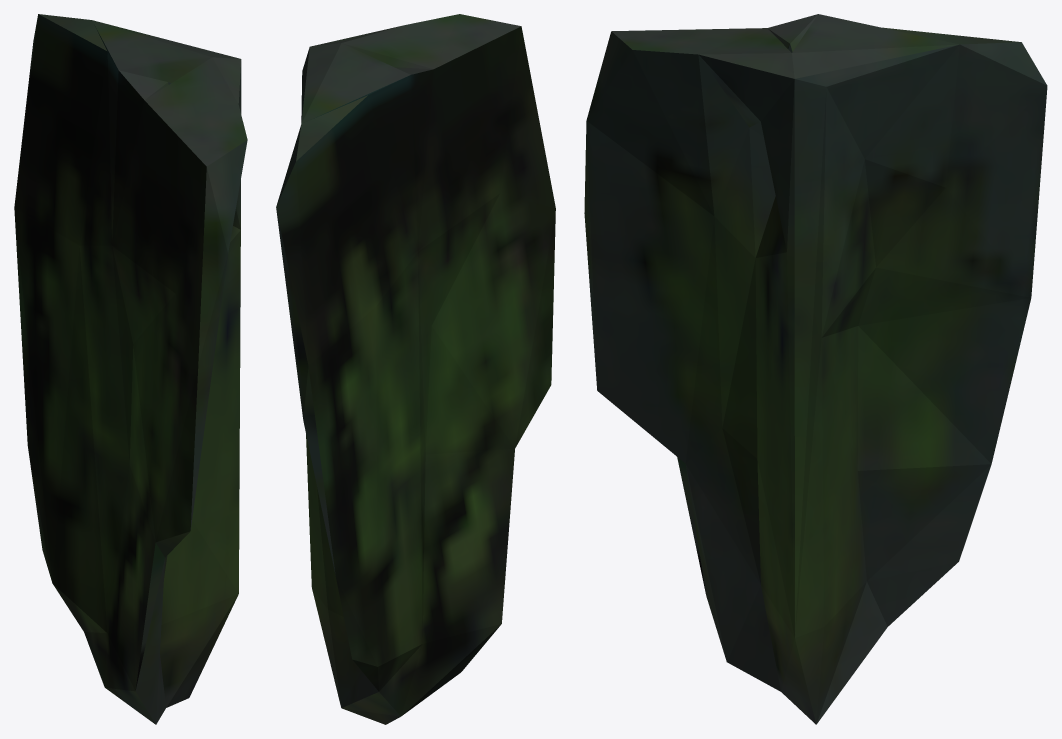
3 views of the same model, side by side, from view 1: azimuth 30°, elevation 25°; view 2: azimuth 150°, elevation 25°; view 3: azimuth 270°, elevation 25° (orthographic). The views are drawn at different scales.
Parts seen in each view (by area): view 1: geometry_0.023_Baked; view 2: geometry_0.023_Baked; view 3: geometry_0.023_Baked.
Boxes of the visible parts, x1=… form: geometry_0.023_Baked: x1=14, y1=14, x2=247, y2=724; geometry_0.023_Baked: x1=276, y1=14, x2=555, y2=724; geometry_0.023_Baked: x1=584, y1=14, x2=1047, y2=724.
Size of the model in its own units: 2.12 by 8.89 by 5.47.
